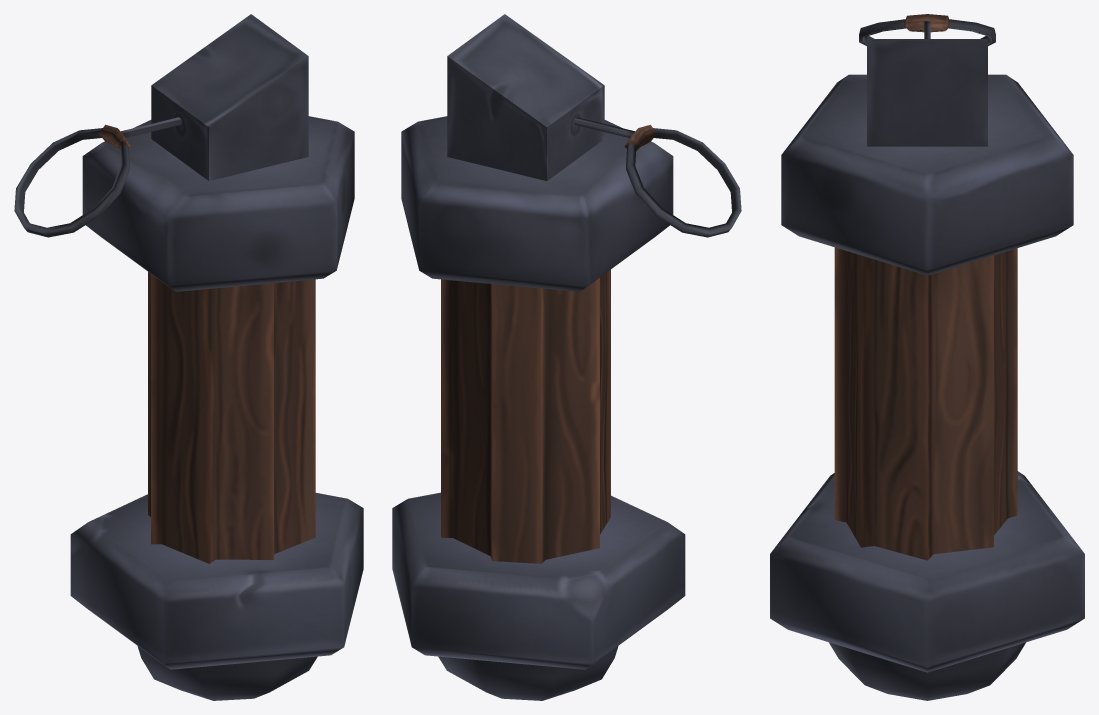
File: item_FlashBang.fbx
3 views of the same model, side by side, from view 1: azimuth 30°, elevation 25°; view 2: azimuth 150°, elevation 25°; view 3: azimuth 270°, elevation 25° (orthographic). The views are drawn at different scales.
Visible parts, largest first — view 1: body, ring; view 2: body, ring; view 3: body, ring.
Boxes of the visible parts, x1=… form: body: x1=70, y1=14, x2=363, y2=700; ring: x1=14, y1=117, x2=181, y2=237; body: x1=392, y1=14, x2=685, y2=700; ring: x1=574, y1=117, x2=741, y2=237; body: x1=770, y1=39, x2=1084, y2=700; ring: x1=859, y1=14, x2=995, y2=45.
Bounding box in the file's own units: 12.98 × 23.26 × 9.91.
